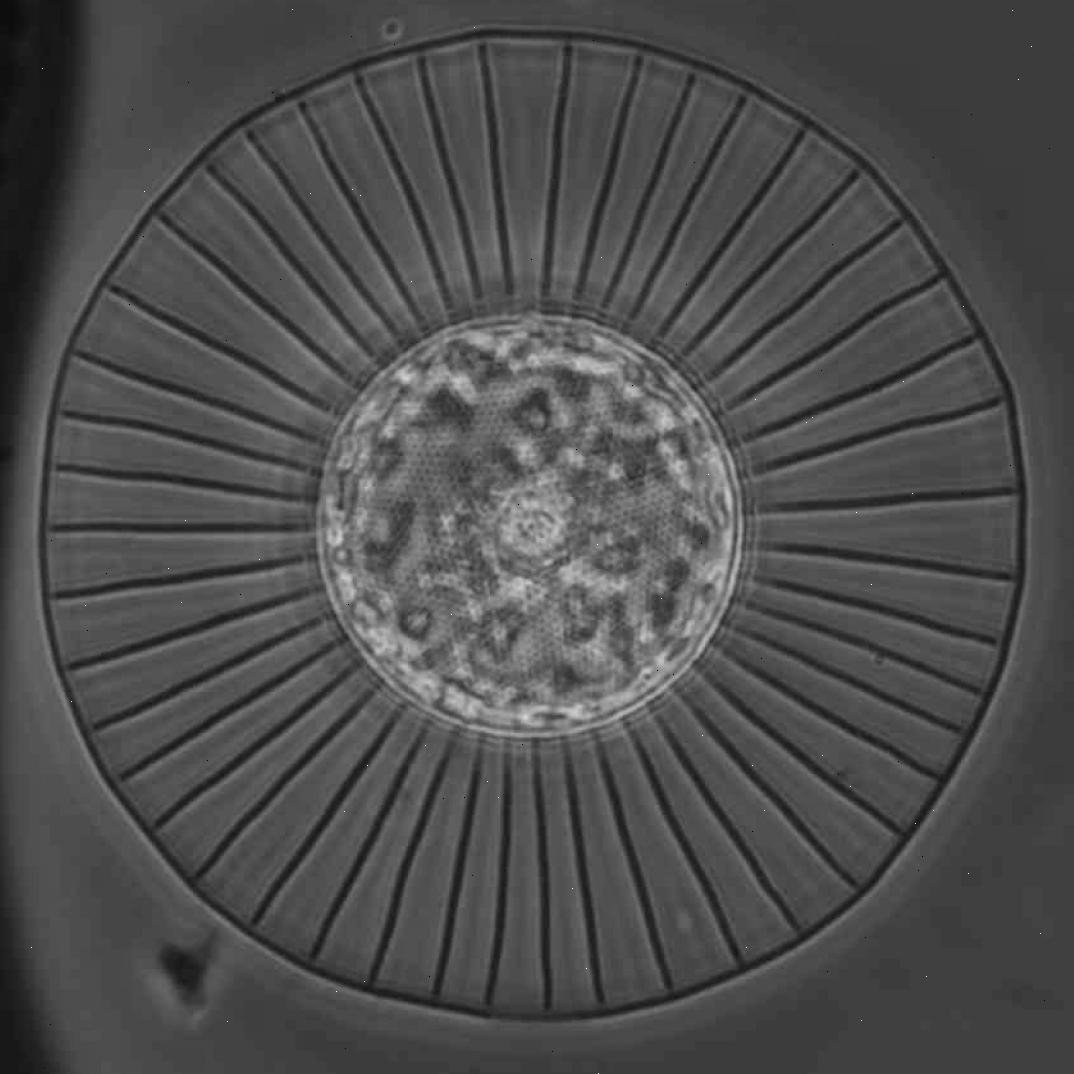planktoniella_sol: (39, 26, 1027, 1023)
